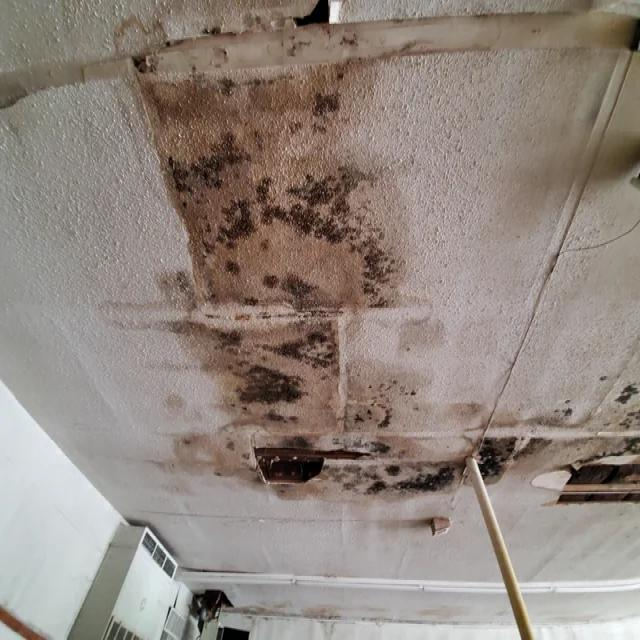damaged_roof: (132, 2, 461, 508), (474, 431, 640, 504)
